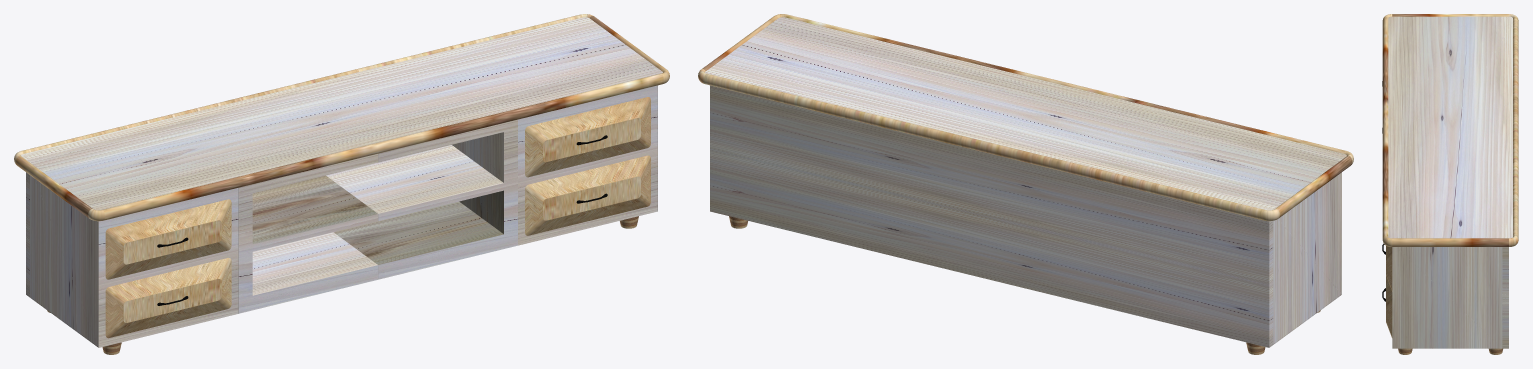
3 renders of one model, left to right at view 1: azimuth 30°, elevation 25°; view 2: azimuth 150°, elevation 25°; view 3: azimuth 270°, elevation 25°, orthographic. The views are drawn at different scales.
Visible parts, largest first — view 1: Default (×10); view 2: Default (×4); view 3: Default (×6).
Boxes of the visible parts, bbox=[...] form: Default (×10): bbox=[14, 14, 669, 347]; Default (×4): bbox=[698, 14, 1353, 347]; Default (×6): bbox=[1382, 14, 1518, 348].
Size of the model in its own units: 83 by 21.24 by 21.05.
Materials: 5 (4 with a texture image).
